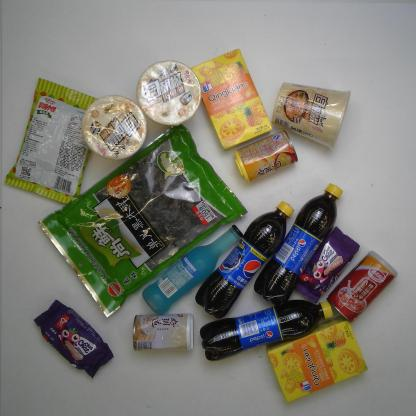Alcohol: (140, 224, 244, 316)
Canned Food: (325, 249, 399, 324), (233, 130, 299, 184), (131, 313, 195, 352)
Dessert: (265, 312, 369, 404), (190, 47, 274, 152), (31, 298, 115, 381), (290, 225, 361, 304)
Dried Food: (36, 120, 248, 320)
Drink: (194, 200, 296, 319), (252, 181, 344, 310), (198, 300, 334, 363)
Instant Noodles: (271, 81, 352, 151), (136, 59, 203, 128), (81, 94, 148, 162)
Puffed Food: (2, 77, 108, 212)
